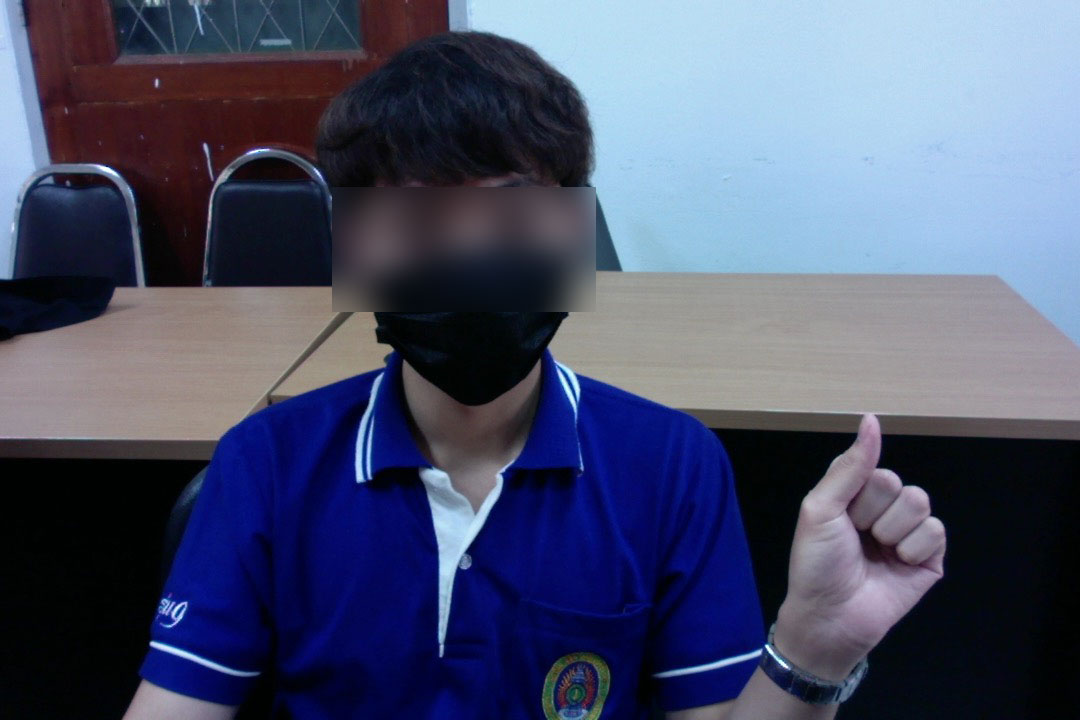or: (775, 408, 952, 640)
